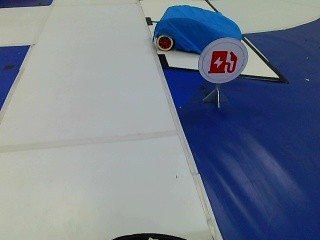battery: (204, 44, 246, 78)
car: (150, 2, 246, 52)
